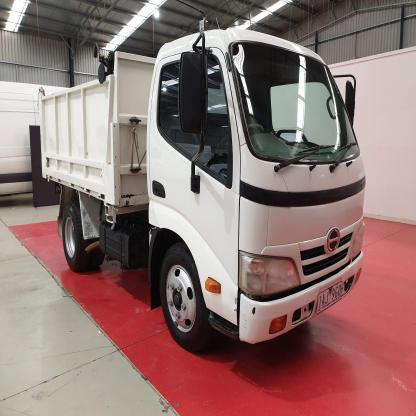dump_truck: (33, 19, 381, 370)
